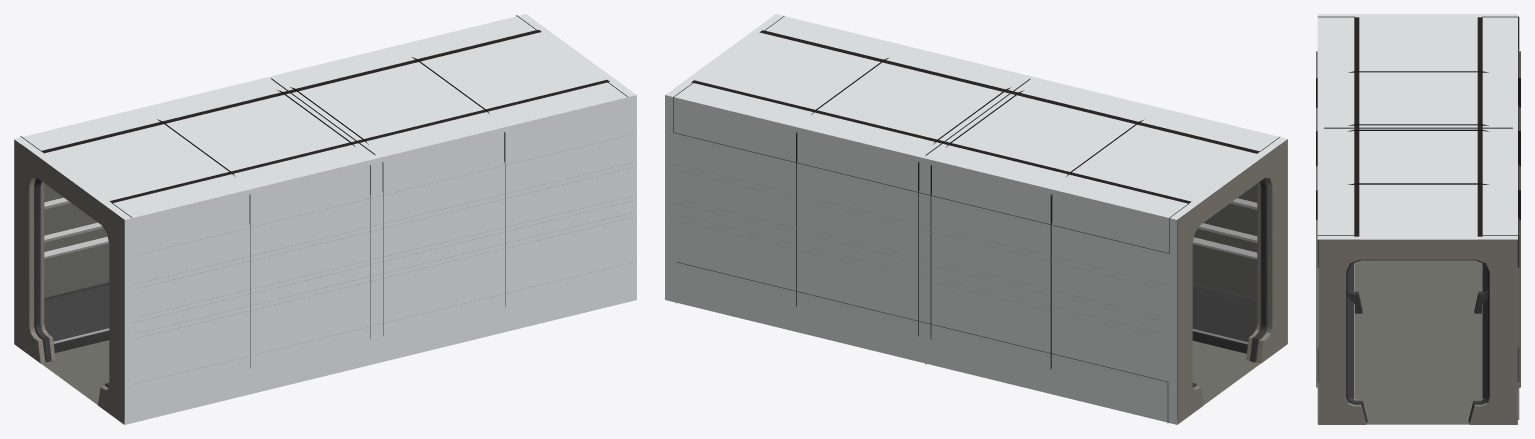
Rendered from Corridor_Straight.fbx.
The picture shows the model from 3 angles, left to right: view 1: azimuth 30°, elevation 25°; view 2: azimuth 150°, elevation 25°; view 3: azimuth 270°, elevation 25°; orthographic projection. The views are drawn at different scales.
Parts seen in each view (by area): view 1: Corridor_Straight, Corridor_StraightLights; view 2: Corridor_Straight, Corridor_StraightLights; view 3: Corridor_Straight.
Boxes of the visible parts, x1,y1,x2,y2 form: Corridor_Straight: (14, 14, 636, 424); Corridor_StraightLights: (44, 197, 108, 256); Corridor_Straight: (665, 14, 1287, 424); Corridor_StraightLights: (1193, 198, 1257, 257); Corridor_Straight: (1316, 14, 1520, 424).
Size of the model in its own units: 71 by 27.85 by 27.21.
